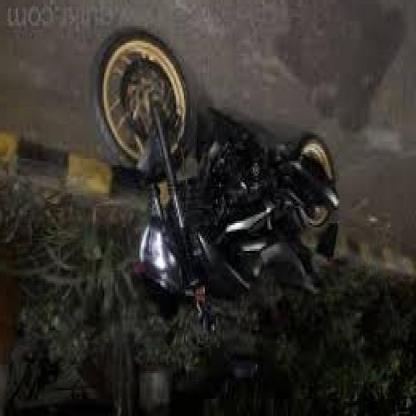bike: (89, 33, 342, 315)
